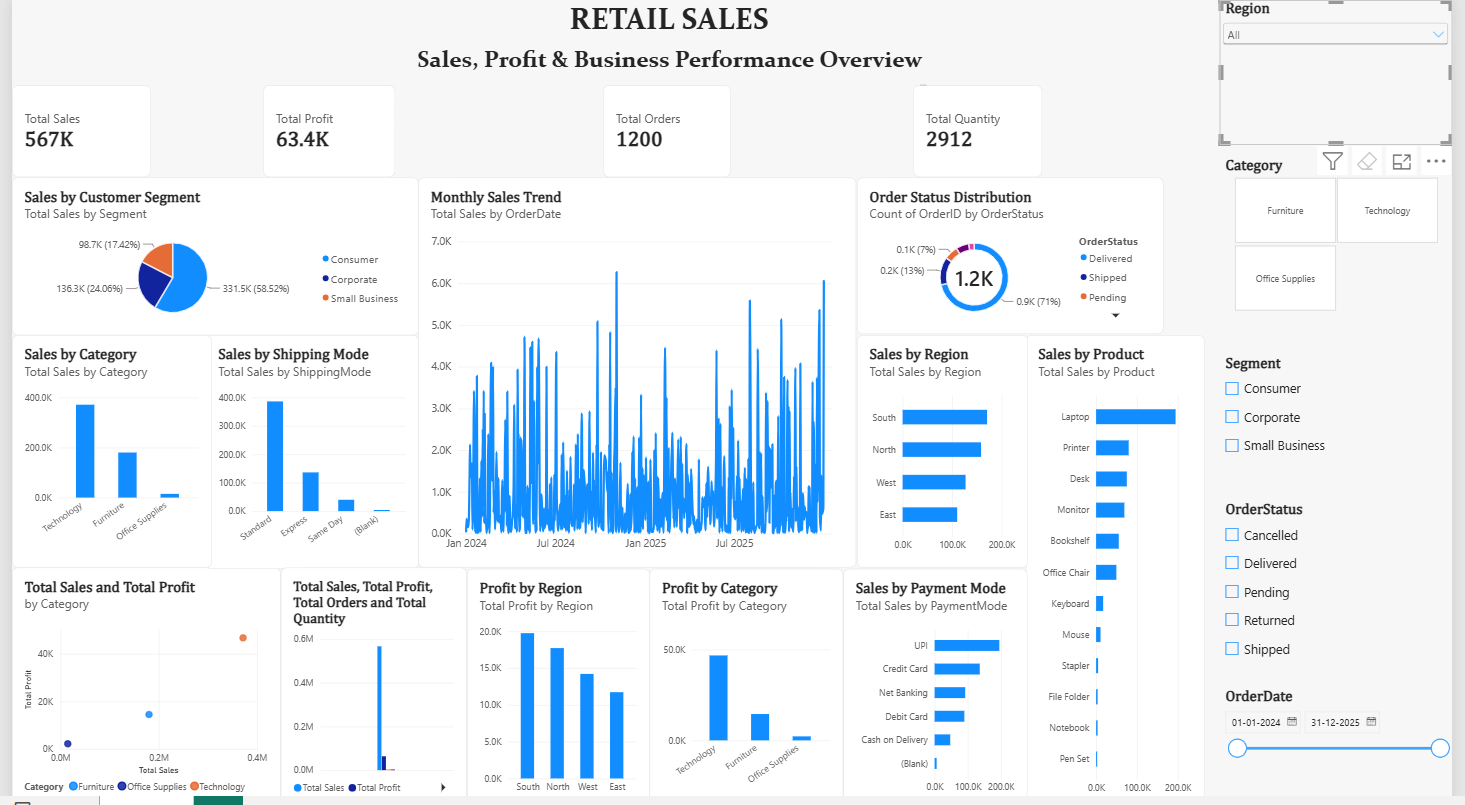

This screenshot's page, from the dashboard's own definition file:
{"tool":"powerbi","page":{"name":"Page 1","canvas":[1920,1080],"ordinal":0},"visuals":[{"type":"clusteredBarChart","title":"Sales by Product","fields":{"Category":["Sales_Data.Product"],"Y":["Sales_Data.Total Sales"]},"box":[1352,446,238,634],"z":0},{"type":"scatterChart","fields":{"Series":["Sales_Data.Category"],"X":["Sales_Data.Total Sales"],"Y":["Sales_Data.Total Profit"]},"box":[0,756,358,322],"z":1000},{"type":"clusteredColumnChart","title":"Profit by Region","fields":{"Category":["Sales_Data.Region"],"Y":["Sales_Data.Total Profit"]},"box":[606,758,243.6,321.8],"z":2000},{"type":"donutChart","title":"Order Status Distribution","fields":{"Category":["Sales_Data.OrderStatus"],"Y":["CountNonNull(Sales_Data.OrderID)"]},"box":[1126,236,409.1,209.1],"z":3000},{"type":"pieChart","title":"Sales by Customer Segment","fields":{"Category":["Sales_Data.Segment"],"Y":["Sales_Data.Total Sales"]},"box":[0,236,542,210],"z":4000},{"type":"clusteredBarChart","title":"Sales by Payment Mode","fields":{"Category":["Sales_Data.PaymentMode"],"Y":["Sales_Data.Total Sales"]},"box":[1108,758,245.5,321.8],"z":5000},{"type":"clusteredColumnChart","title":"Sales by Shipping Mode","fields":{"Category":["Sales_Data.ShippingMode"],"Y":["Sales_Data.Total Sales"]},"box":[258,446,284,312],"z":6000},{"type":"clusteredColumnChart","fields":{"Y":["Sales_Data.Total Sales","Sales_Data.Total Profit","Sales_Data.Total Orders","Sales_Data.Total Quantity"]},"box":[358,756,248,324],"z":7000},{"type":"cardVisual","title":"Total Sales","fields":{"Data":["Sales_Data.Total Sales"]},"box":[0,112.7,185.5,123.6],"z":8000},{"type":"cardVisual","title":"Total Profit","fields":{"Data":["Sales_Data.Total Profit"]},"box":[334.5,112.7,176.4,123.6],"z":9000},{"type":"cardVisual","title":"Total Orders","fields":{"Data":["Sales_Data.Total Orders"]},"box":[789.1,112.7,170.9,123.6],"z":10000},{"type":"cardVisual","fields":{"Data":["Sales_Data.Total Quantity"]},"box":[1201.8,112.7,172.7,123.6],"z":11000},{"type":"lineChart","title":"Monthly Sales Trend","fields":{"Category":["Sales_Data.OrderDate.Variation.Date Hierarchy.Month"],"Y":["Sales_Data.Total Sales"]},"box":[542,236,584,520],"z":12000},{"type":"clusteredColumnChart","title":"Sales by Category","fields":{"Category":["Sales_Data.Category"],"Y":["Sales_Data.Total Sales"]},"box":[0,446,266,310],"z":13000},{"type":"clusteredBarChart","title":"Sales by Region","fields":{"Category":["Sales_Data.Region"],"Y":["Sales_Data.Total Sales"]},"box":[1126,446,228,310],"z":14000},{"type":"clusteredColumnChart","title":"Profit by Category","fields":{"Category":["Sales_Data.Category"],"Y":["Sales_Data.Total Profit"]},"box":[850,758,258,322],"z":15000},{"type":"slicer","fields":{"Values":["Sales_Data.Category"]},"box":[1610,210,310,206],"z":16000},{"type":"slicer","fields":{"Values":["Sales_Data.Region"]},"box":[1610,0,310,194],"z":17000},{"type":"slicer","fields":{"Values":["Sales_Data.Segment"]},"box":[1610,474,310,176],"z":18000},{"type":"slicer","title":"OrderStatus","fields":{"Values":["Sales_Data.OrderStatus"]},"box":[1610,668,310,220],"z":19000},{"type":"slicer","fields":{"Values":["Sales_Data.OrderDate.Variation.Date Hierarchy.Year"]},"box":[1610,918,310,160],"z":20000},{"type":"textbox","title":"RETAIL SALES DASHBOARD","box":[645.5,0,462.2,57.6],"z":21000},{"type":"textbox","title":"Sales, Profit & Business Performance Overview","box":[534.3,60.1,683.7,54.1],"z":22000}]}

Visuals, with their boxes on the page's 1920x1080 design canvas (x1, y1, x2, y2). These are canvas units, not pixel positions in the 1465x805 screenshot, which may show the page scaled, cropped or inside an application window:
"Sales by Product" clusteredBarChart: x1=1352 y1=446 x2=1590 y2=1080
scatterChart - Sales_Data.Category x Sales_Data.Total Sales: x1=0 y1=756 x2=358 y2=1078
"Profit by Region" clusteredColumnChart: x1=606 y1=758 x2=850 y2=1080
"Order Status Distribution" donutChart: x1=1126 y1=236 x2=1535 y2=445
"Sales by Customer Segment" pieChart: x1=0 y1=236 x2=542 y2=446
"Sales by Payment Mode" clusteredBarChart: x1=1108 y1=758 x2=1354 y2=1080
"Sales by Shipping Mode" clusteredColumnChart: x1=258 y1=446 x2=542 y2=758
clusteredColumnChart - Sales_Data.Total Sales x Sales_Data.Total Profit: x1=358 y1=756 x2=606 y2=1080
"Total Sales" cardVisual: x1=0 y1=113 x2=186 y2=236
"Total Profit" cardVisual: x1=334 y1=113 x2=511 y2=236
"Total Orders" cardVisual: x1=789 y1=113 x2=960 y2=236
cardVisual - Sales_Data.Total Quantity: x1=1202 y1=113 x2=1374 y2=236
"Monthly Sales Trend" lineChart: x1=542 y1=236 x2=1126 y2=756
"Sales by Category" clusteredColumnChart: x1=0 y1=446 x2=266 y2=756
"Sales by Region" clusteredBarChart: x1=1126 y1=446 x2=1354 y2=756
"Profit by Category" clusteredColumnChart: x1=850 y1=758 x2=1108 y2=1080
slicer - Sales_Data.Category: x1=1610 y1=210 x2=1920 y2=416
slicer - Sales_Data.Region: x1=1610 y1=0 x2=1920 y2=194
slicer - Sales_Data.Segment: x1=1610 y1=474 x2=1920 y2=650
"OrderStatus" slicer: x1=1610 y1=668 x2=1920 y2=888
slicer - Sales_Data.OrderDate.Variation.Date Hierarchy.Year: x1=1610 y1=918 x2=1920 y2=1078
"RETAIL SALES DASHBOARD" textbox: x1=646 y1=0 x2=1108 y2=58
"Sales, Profit & Business Performance Overview" textbox: x1=534 y1=60 x2=1218 y2=114
